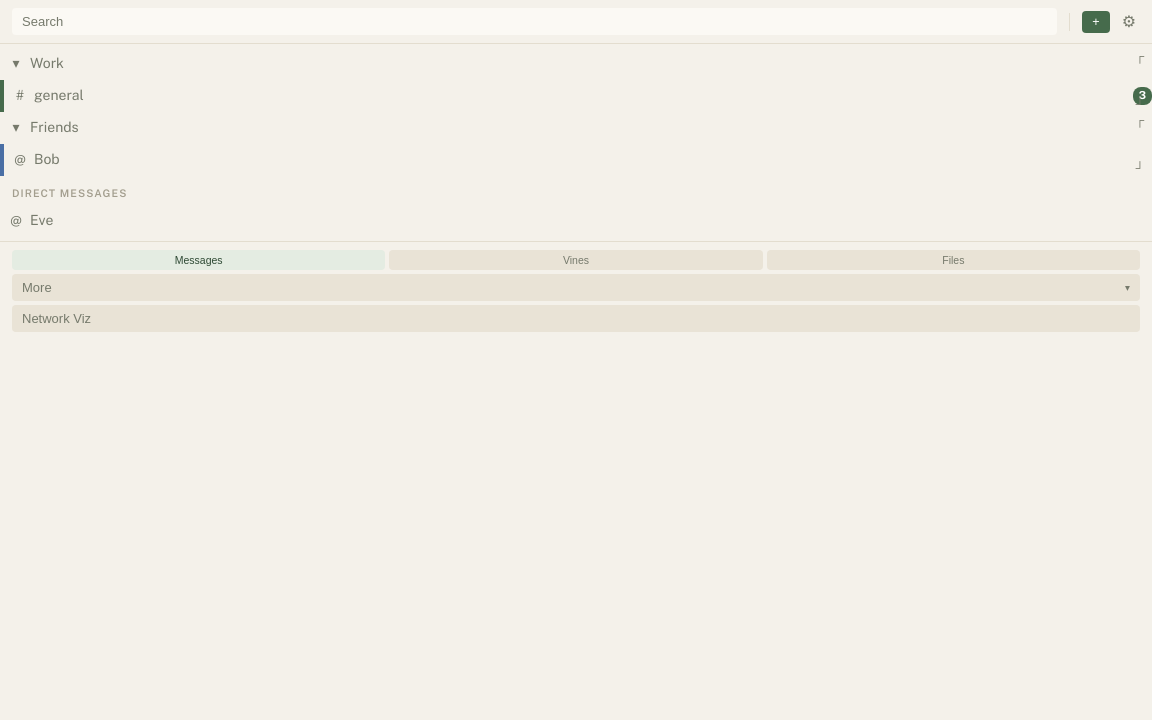
Test case: NavPanel › FAB + fan-out menu (ZEB-263) › clicking outside the popover closes it
The width and height of the screenshot is (1152, 720).
Click the button named "Create new" at [1096, 22], box [1082,10,1110,32]
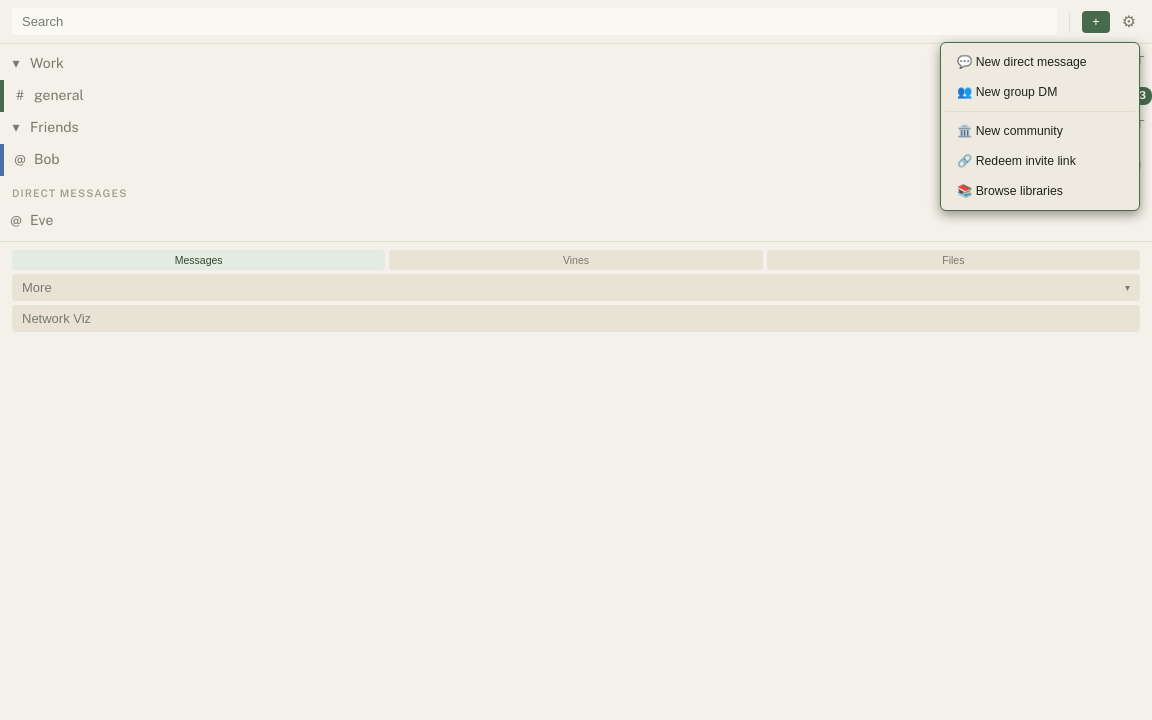
Now the menu item "🏛️ New community" is shown, box [945,116,1135,146]
Note: Click on document.body — outside the popover and outside the FAB
Press the mouse on the element that starts with "💬 New direct message" at [576, 360], box [0,0,1151,719]
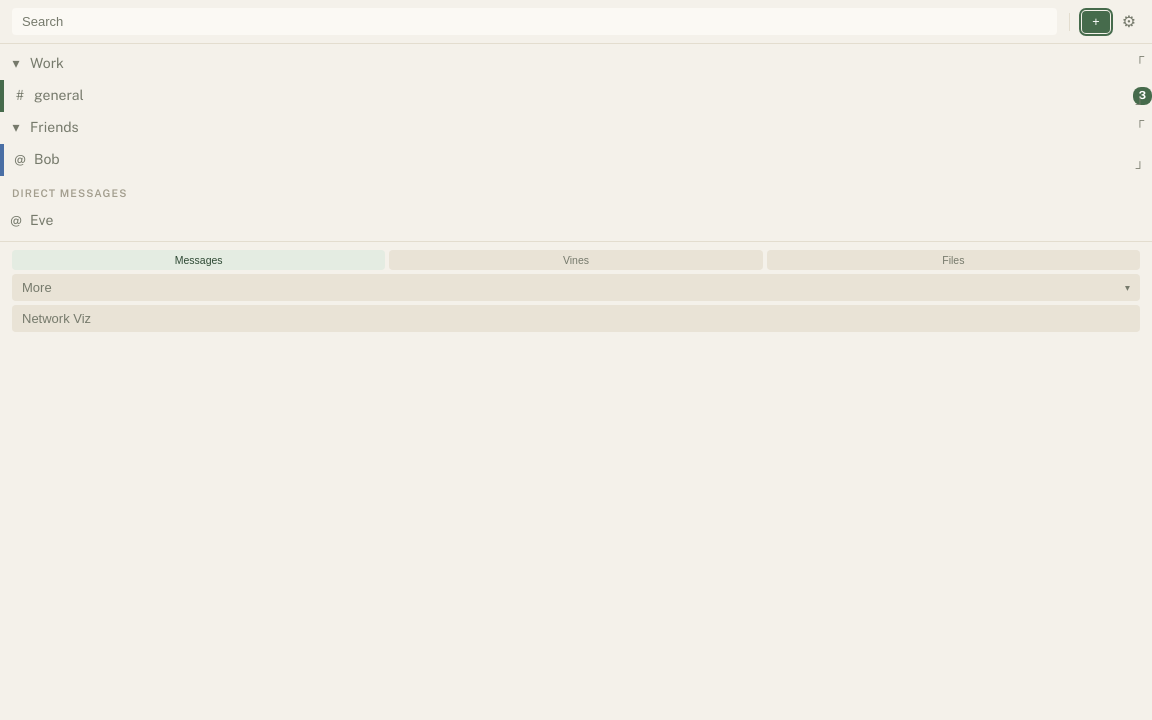
Now the menu item "New community" is gone
